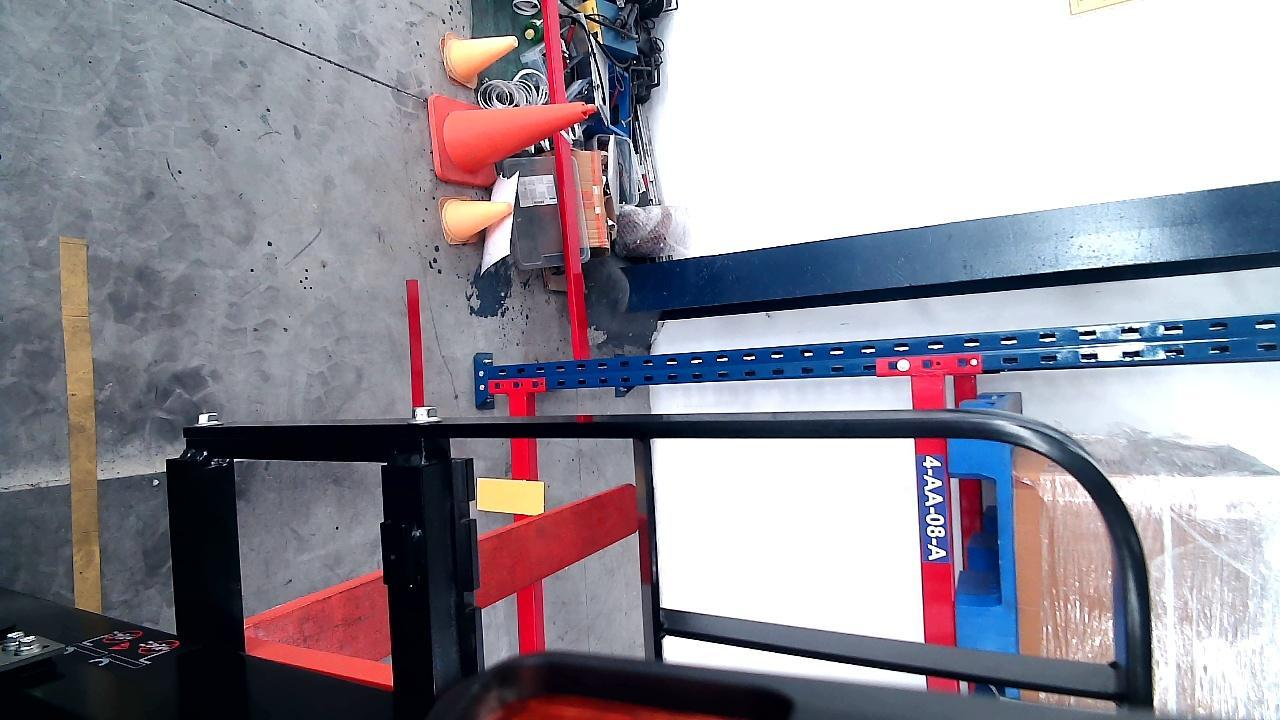red_line: (403, 280, 423, 407)
yellow_line: (64, 231, 104, 613)
